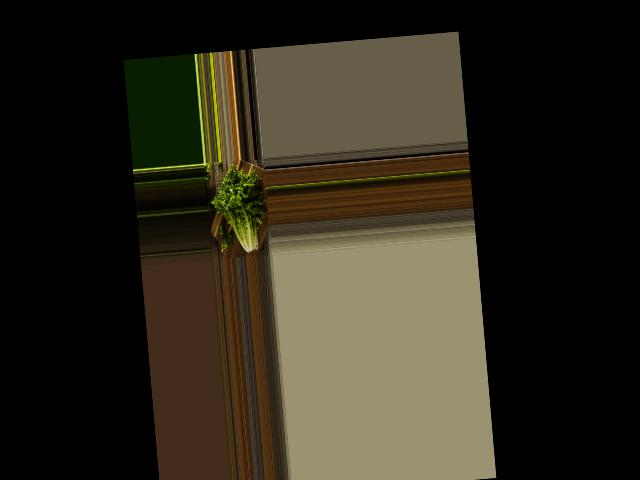lettuce: (210, 166, 269, 259)
